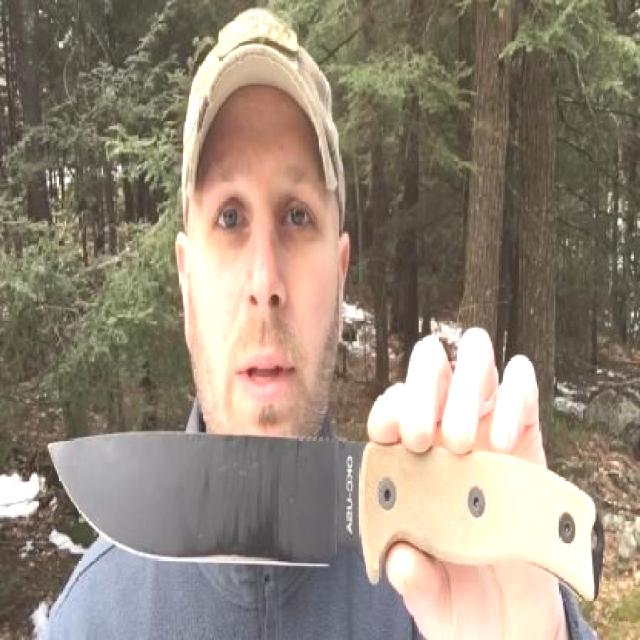knife: (41, 323, 542, 592)
